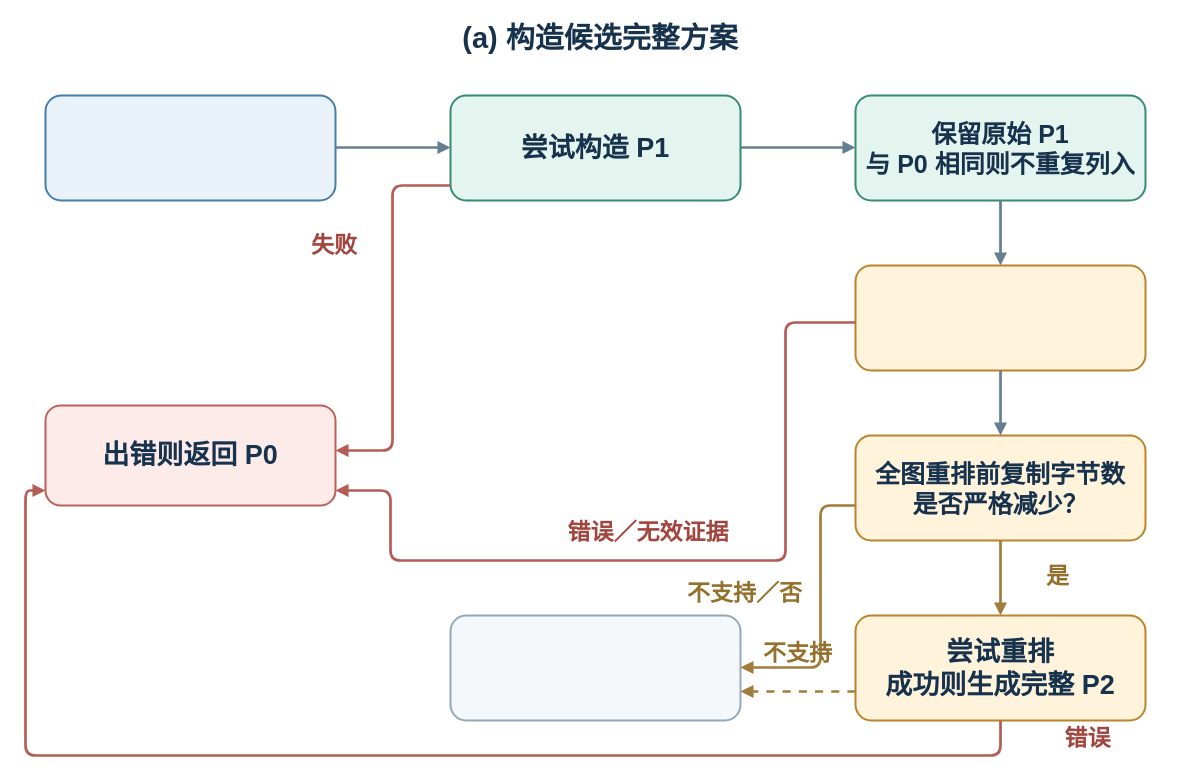
The diagram is 1188 pixels wide and 782 high, and some of its shapes have lost their labels. Here are the shapes that lost their labels. From the top down, the centre of each, then its label:
point 190,147: P0：基础方案 始终保留
point 1000,317: 以原始 P1 尝试局部调整
point 595,667: 不构造 P2 保留已有方案
